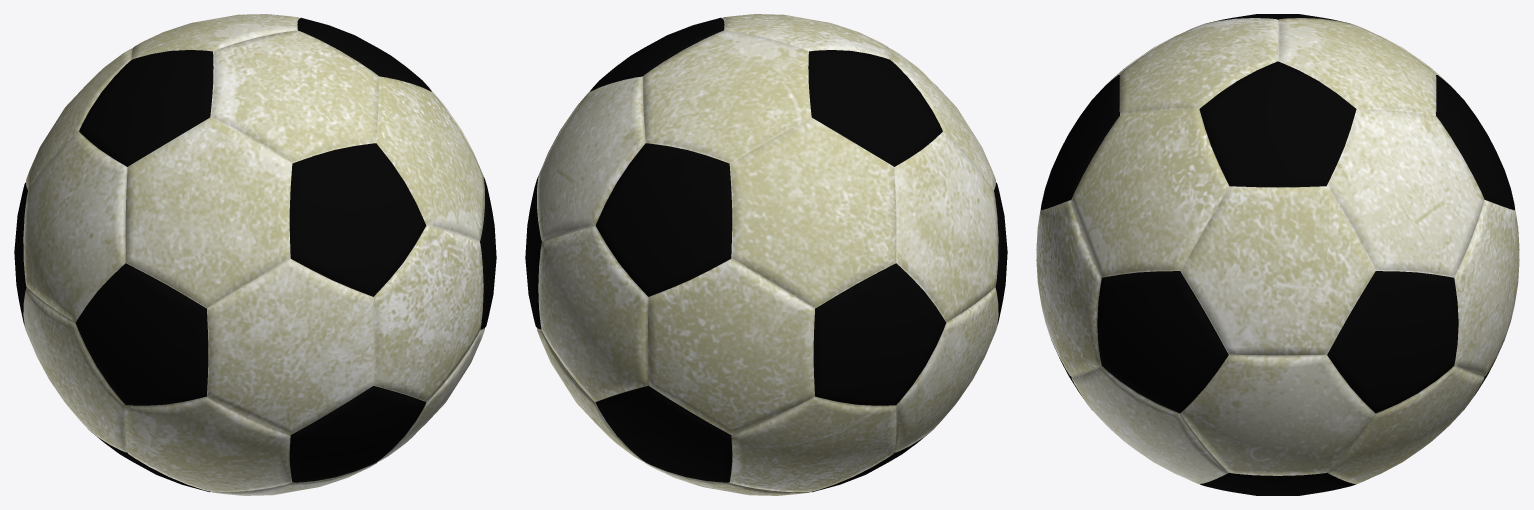
File: asset.glb
The picture shows the model from 3 angles, left to right: view 1: azimuth 30°, elevation 25°; view 2: azimuth 150°, elevation 25°; view 3: azimuth 270°, elevation 25°; orthographic projection.
Visible parts, largest first — view 1: FootBall; view 2: FootBall; view 3: FootBall.
Part boxes in pixels (box(x1,y1,x2,y2)): FootBall: box(14, 14, 496, 495); FootBall: box(525, 14, 1007, 495); FootBall: box(1036, 14, 1519, 495).
Bounding box in the file's own units: 0.7606 × 0.7606 × 0.7606.
1 material, 1 textured.
